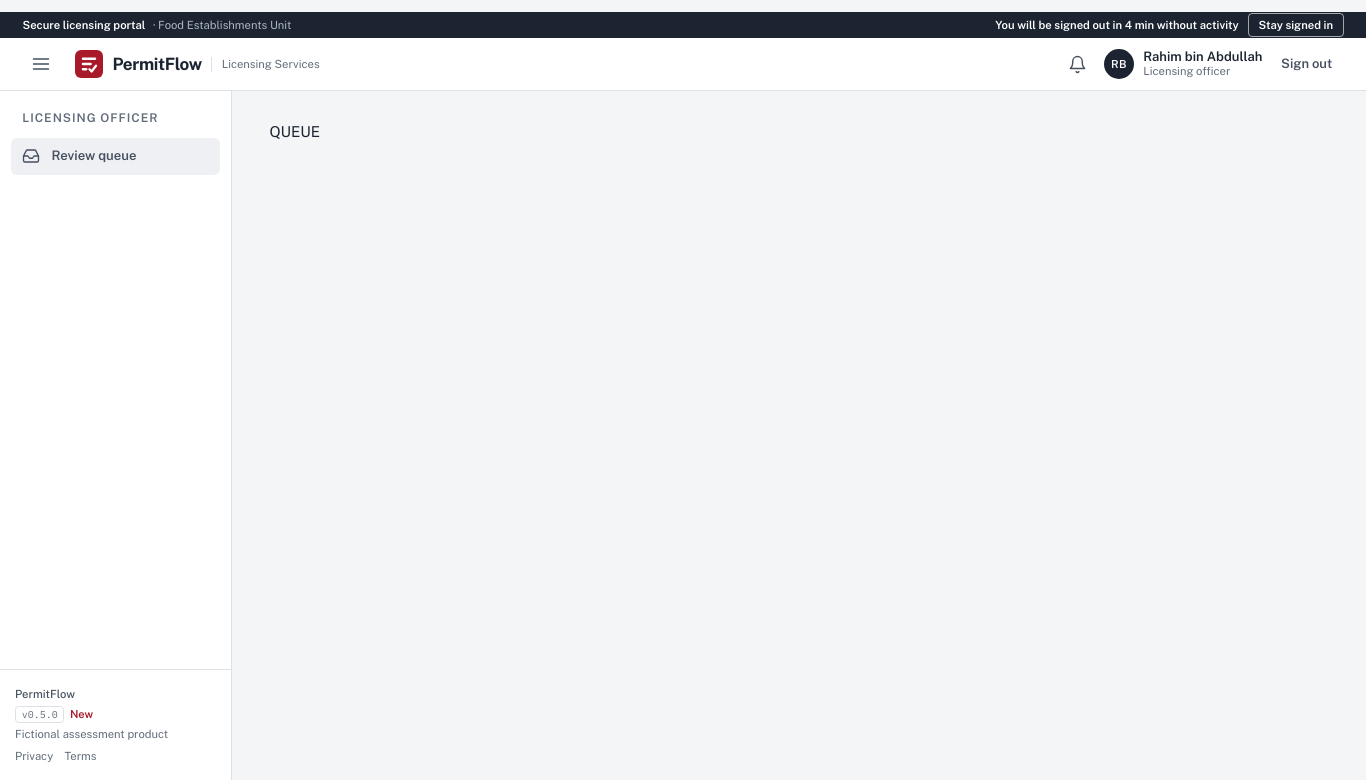
Test: AppShell › warns 5 minutes before the idle sign-out, and Stay signed in keeps the session (US-095)
Expected: the text "You will be signed out in 4 min without activity" is shown, [995, 13, 1344, 37]
Step 1. Click the button "Stay signed in" → (1296, 25), box [1248, 13, 1344, 37]
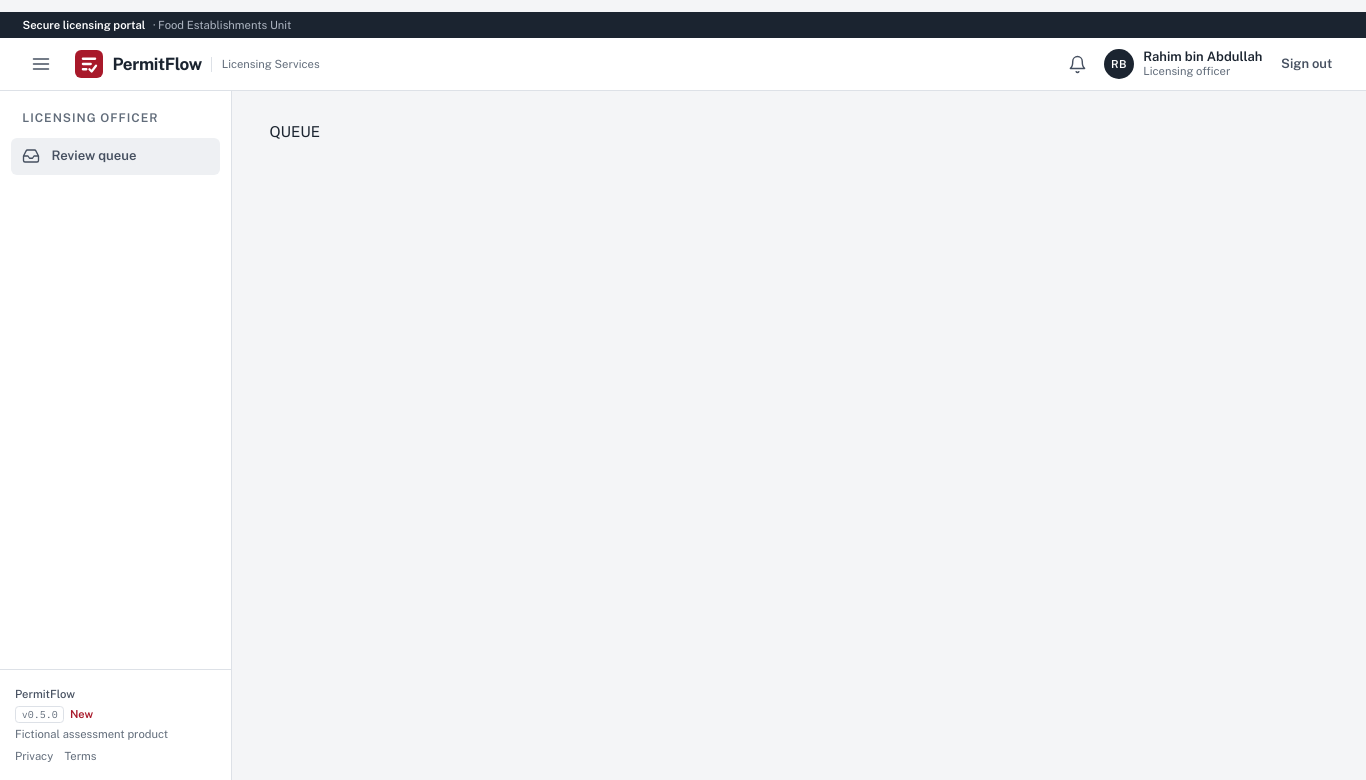
Result: the button "Stay signed in" is gone
